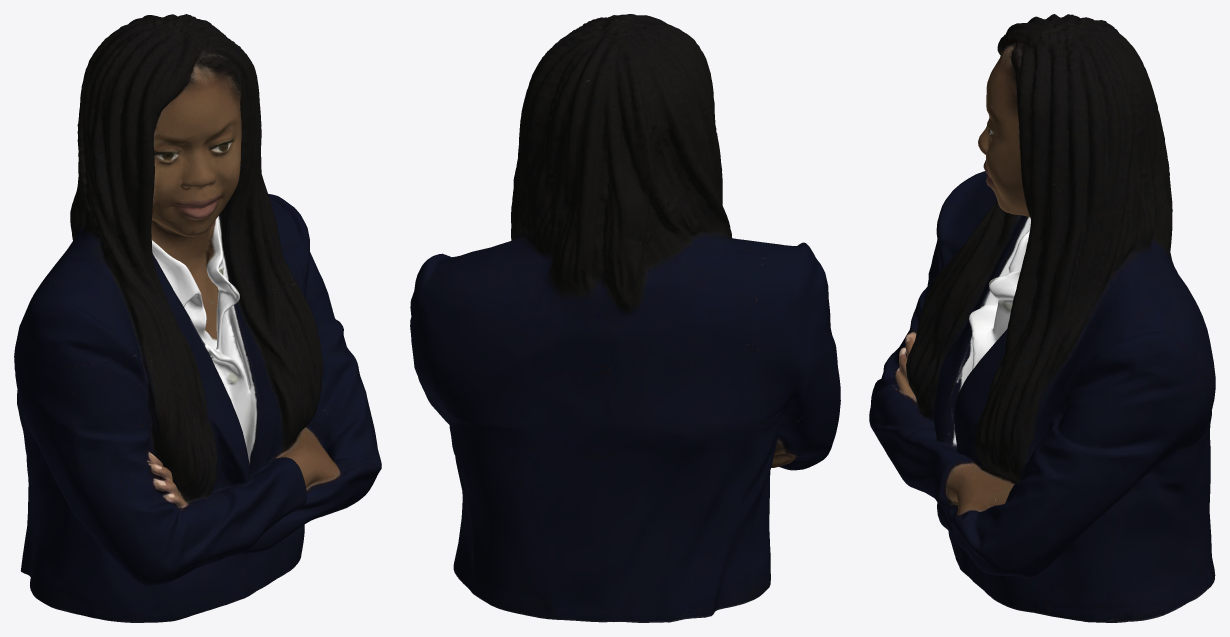
The model's file is kemi-badenoch.glb.
The picture shows the model from 3 angles, left to right: view 1: azimuth 30°, elevation 25°; view 2: azimuth 150°, elevation 25°; view 3: azimuth 270°, elevation 25°; orthographic projection.
Bounding box in the file's own units: 1.29 × 1.9 × 1.11.
Materials: 1 (1 with a texture image).
